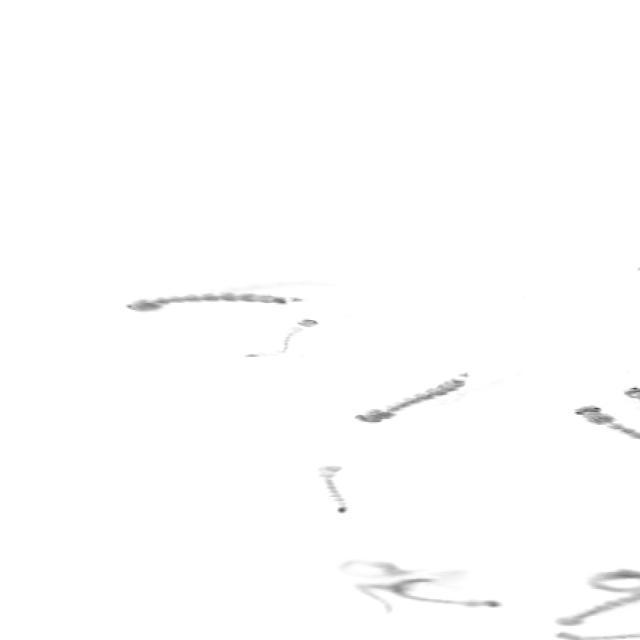larvas: (343, 342, 494, 451), (333, 545, 517, 630), (119, 251, 327, 326), (539, 535, 640, 639), (558, 335, 640, 458), (224, 304, 341, 377), (353, 545, 481, 611), (288, 441, 366, 538)
